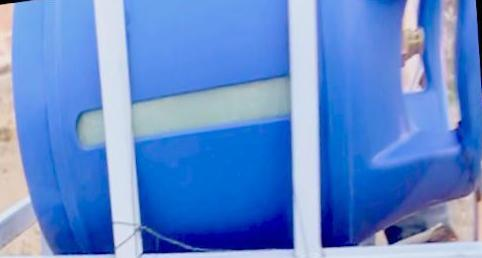cylinder: (1, 1, 482, 258)
